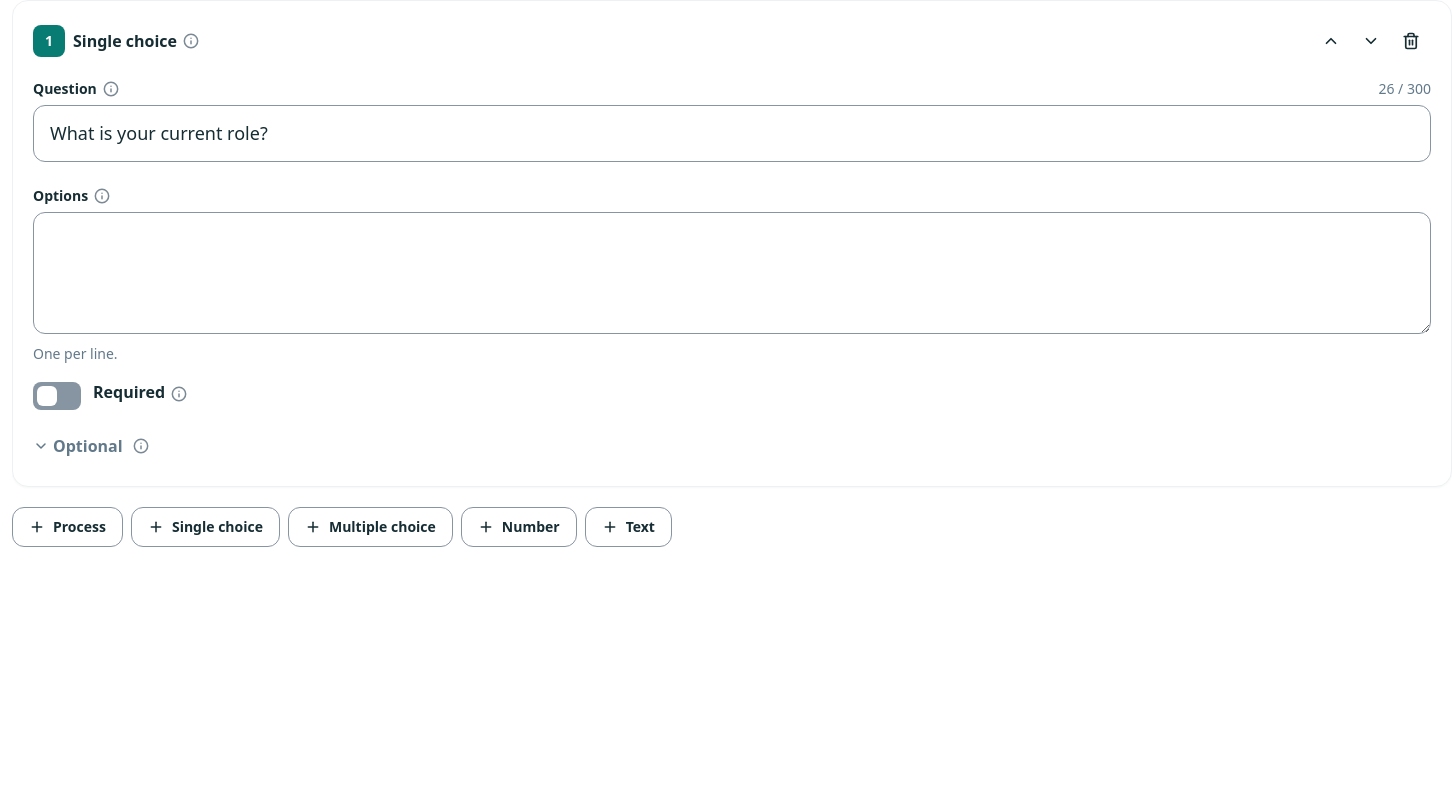
Test: QuestionBuilder: question, field label and hint › keeps the Optional section closed while it is empty and opens it on demand
The width and height of the screenshot is (1452, 810).
Click the button with test id "builder-optional-toggle" at coordinates (78, 446), box [29,426,127,466]
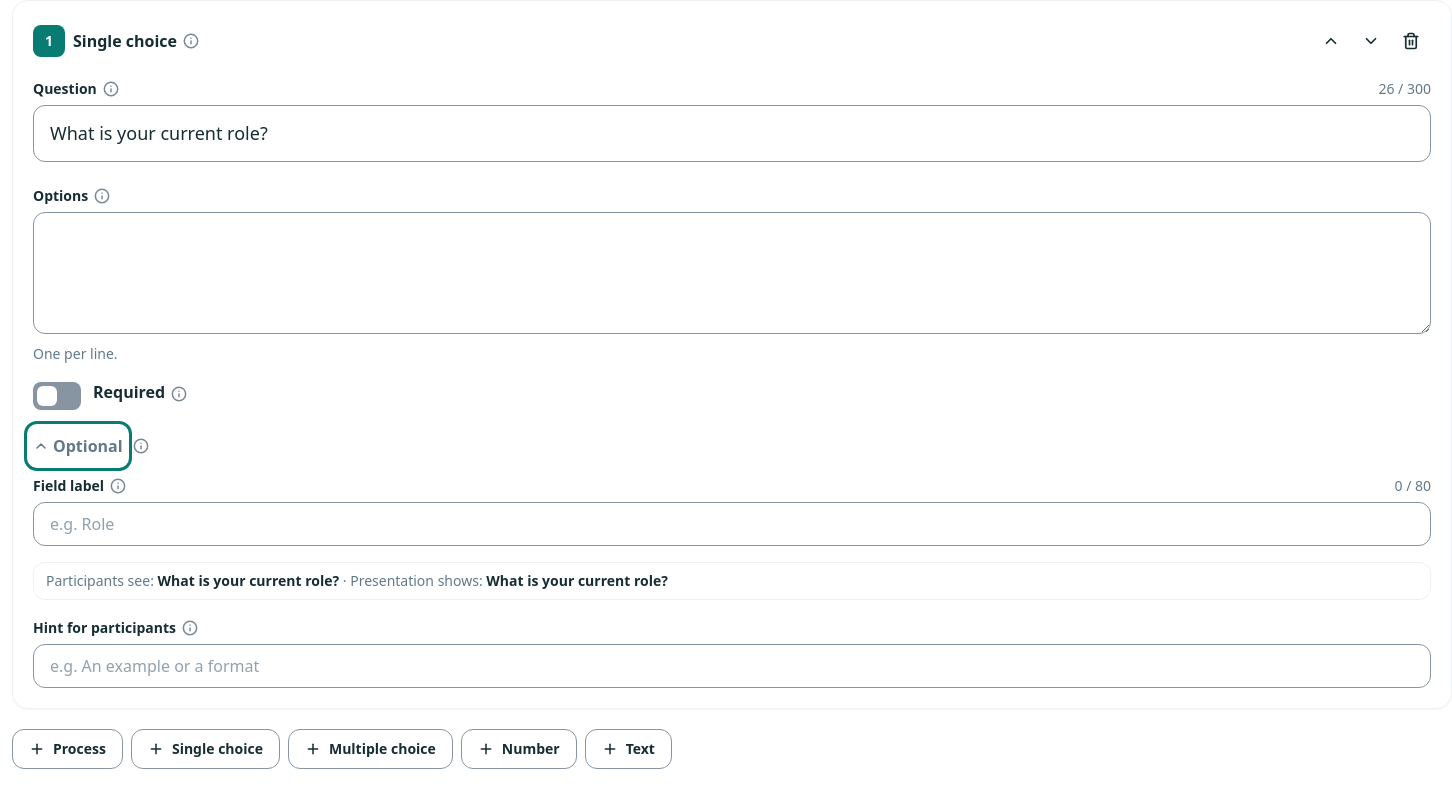
Now the button with test id "builder-optional-toggle" is expanded, box [29,426,127,466]
Now the field with test id "builder-label" is shown, box [33,502,1431,546]
